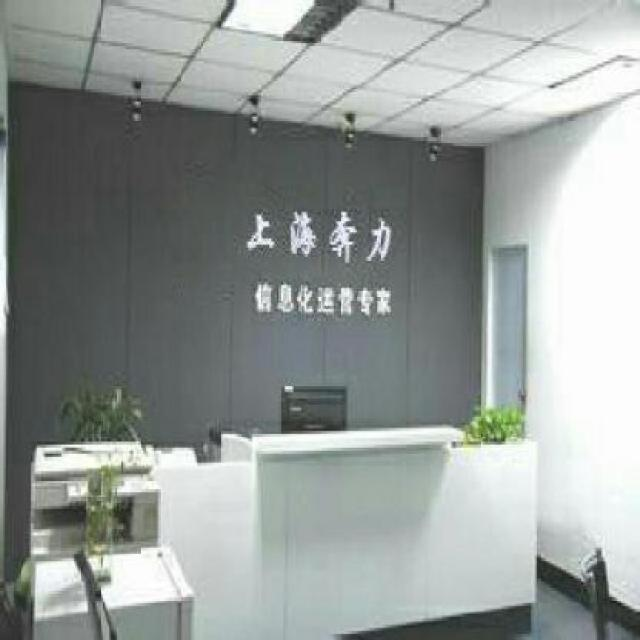frontdesk: (138, 415, 551, 640)
